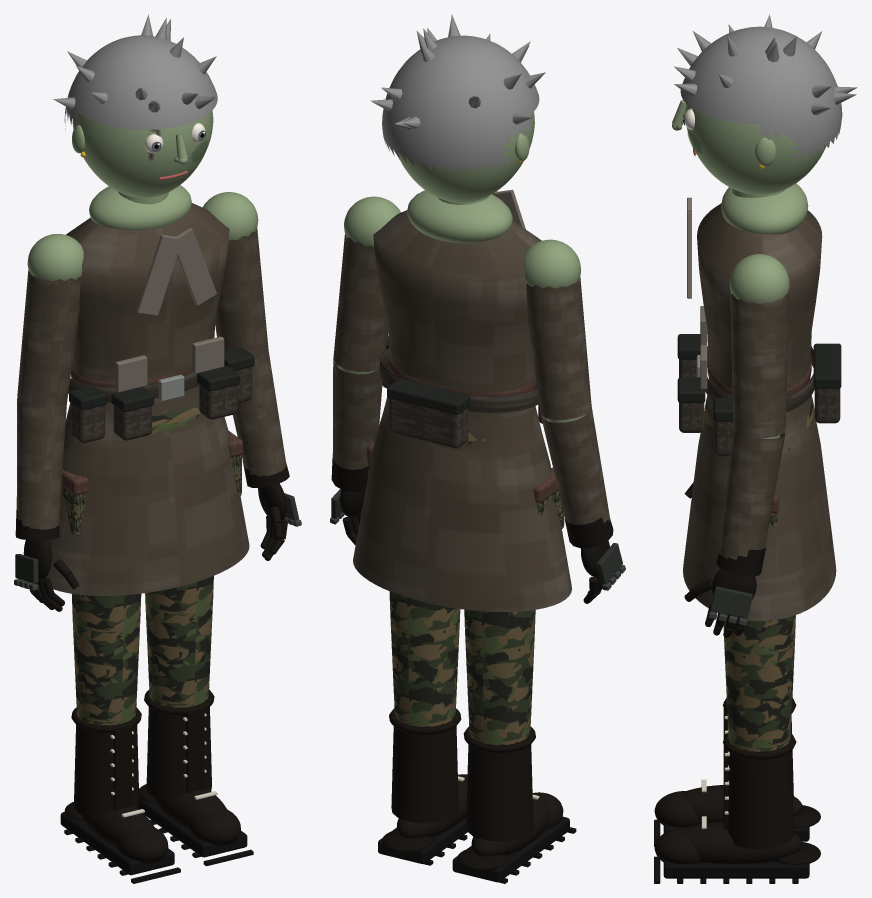
File: 05-zombie.glb
3 views of the same model, side by side, from view 1: azimuth 30°, elevation 25°; view 2: azimuth 150°, elevation 25°; view 3: azimuth 270°, elevation 25° (orthographic). The views are drawn at different scales.
Bounding box in the file's own units: 0.6344 × 1.79 × 0.398.
Materials: 28 (6 with a texture image).
